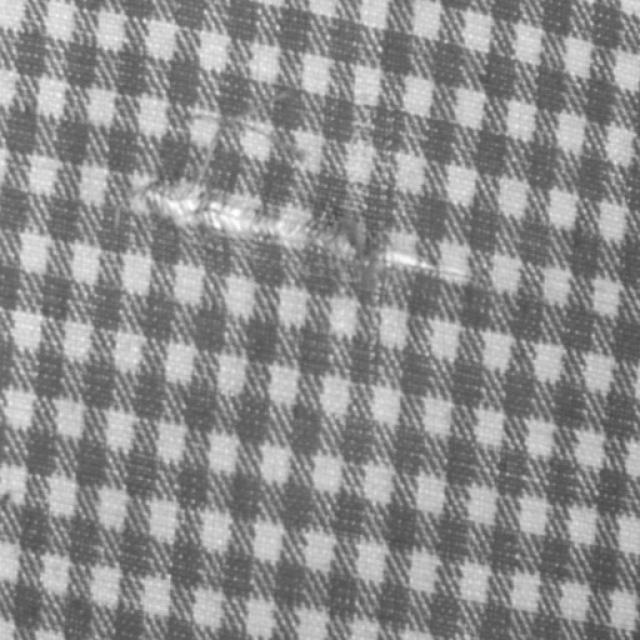Hole-Defect: (140, 180, 354, 260), (376, 245, 470, 285)
